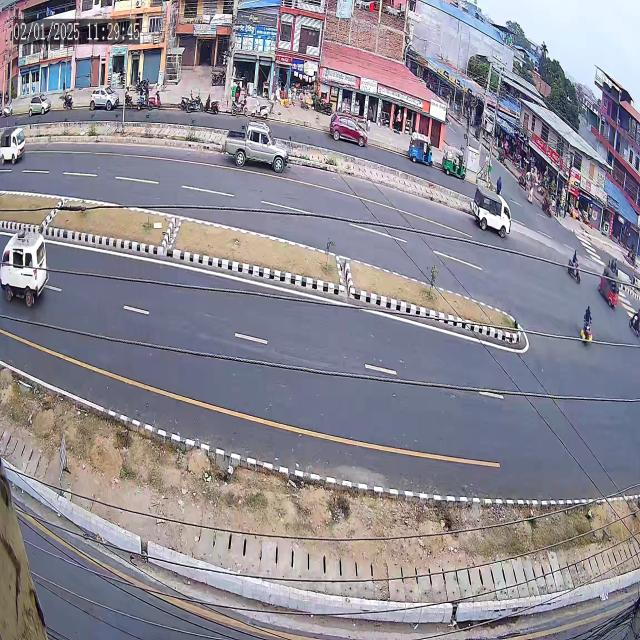auto: (593, 261, 622, 315)
motorcycle: (571, 304, 598, 348), (560, 240, 584, 284)
van: (0, 215, 55, 316), (466, 177, 513, 252), (0, 118, 30, 168)
